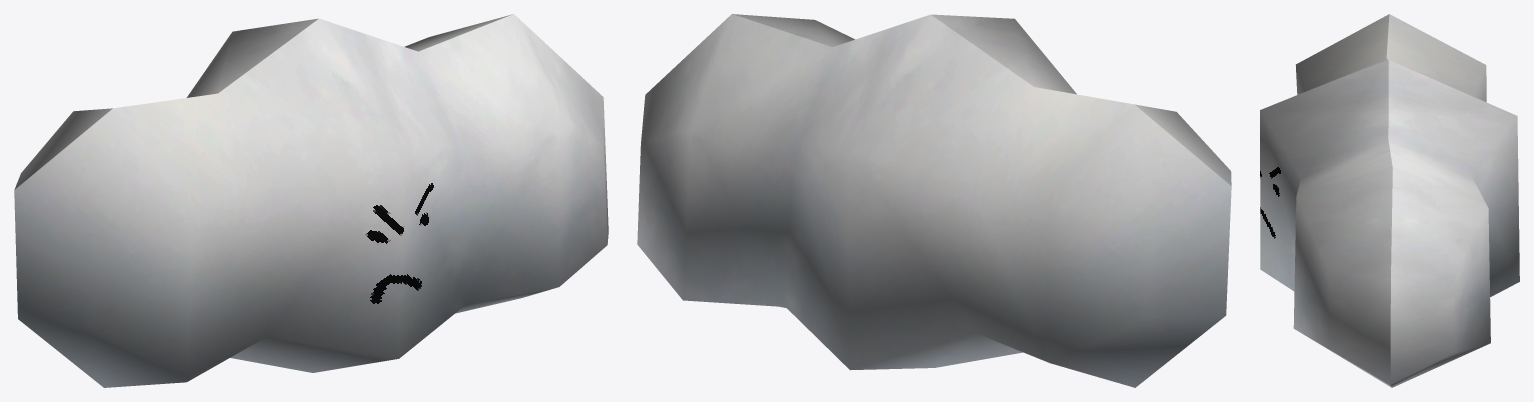
File: Ondvindkast.glb
3 renders of one model, left to right at view 1: azimuth 30°, elevation 25°; view 2: azimuth 150°, elevation 25°; view 3: azimuth 270°, elevation 25°, orthographic. The views are drawn at different scales.
Parts seen in each view (by area): view 1: Sky1; view 2: Sky1; view 3: Sky1.
Part boxes in pixels (x1,y1,x2,y2): Sky1: [14, 14, 608, 387]; Sky1: [637, 14, 1231, 387]; Sky1: [1260, 14, 1519, 387].
Bounding box in the file's own units: 7.76 × 4.41 × 3.86.
2 materials, 2 textured.
